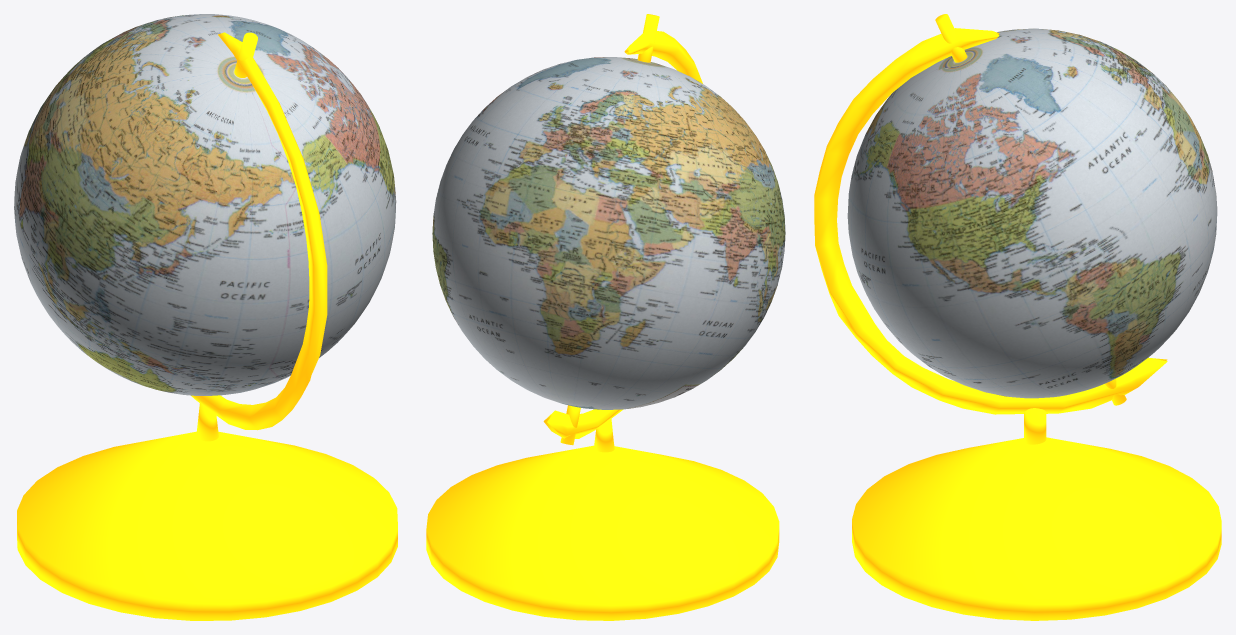
Rendered from globe.fbx.
3 views of the same model, side by side, from view 1: azimuth 30°, elevation 25°; view 2: azimuth 150°, elevation 25°; view 3: azimuth 270°, elevation 25° (orthographic). The views are drawn at different scales.
Visible parts, largest first — view 1: Sphere, Cone; view 2: Sphere, Cone; view 3: Sphere, Cone.
Part boxes in pixels (bbox=[...]): Sphere: bbox=[14, 14, 396, 395]; Cone: bbox=[17, 32, 397, 620]; Sphere: bbox=[432, 57, 785, 409]; Cone: bbox=[426, 14, 779, 620]; Sphere: bbox=[847, 28, 1217, 398]; Cone: bbox=[814, 14, 1221, 620].
Size of the model in its own units: 1.01 by 1.56 by 1.1.
Materials: 2 (1 with a texture image).
